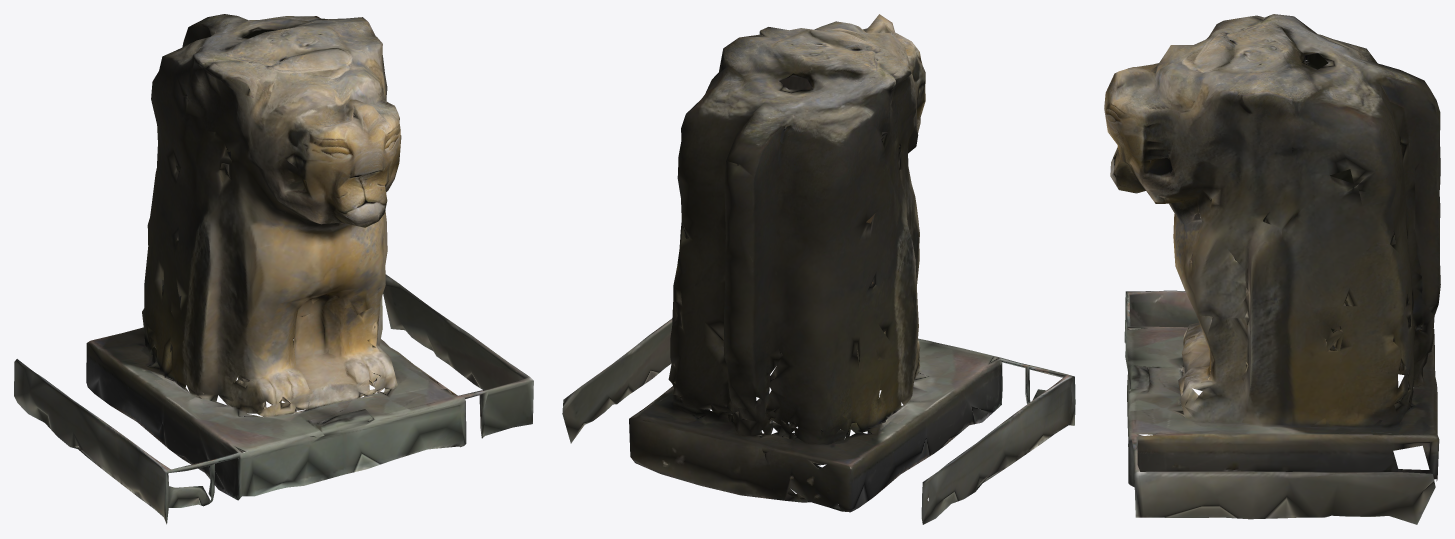
The picture shows the model from 3 angles, left to right: view 1: azimuth 30°, elevation 25°; view 2: azimuth 150°, elevation 25°; view 3: azimuth 270°, elevation 25°; orthographic projection. The views are drawn at different scales.
Size of the model in its own units: 2 by 2 by 1.56.
1 material, 1 textured.
